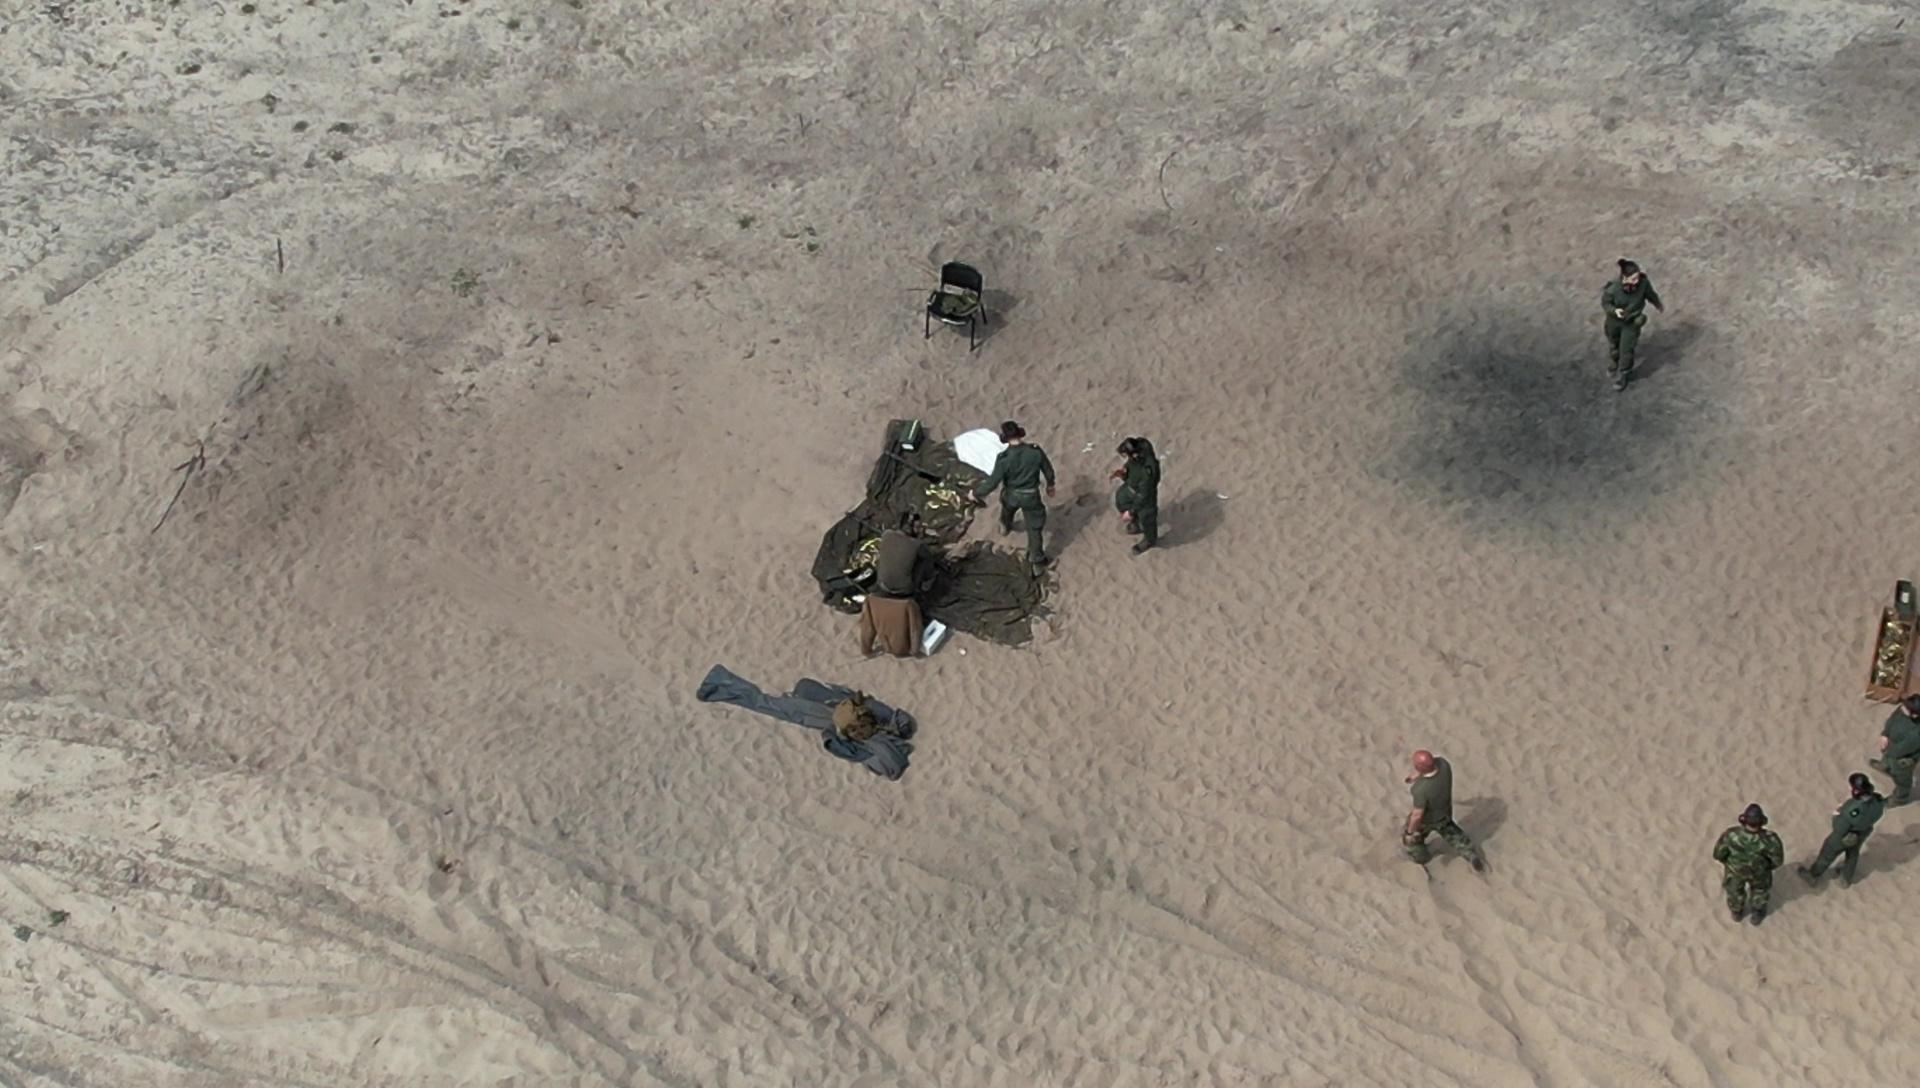Soldier: (1390, 731, 1509, 903), (982, 438, 1084, 560), (868, 522, 971, 634), (1718, 793, 1793, 939), (1108, 422, 1176, 570), (1598, 255, 1664, 408), (1822, 758, 1884, 901), (1875, 684, 1919, 823)
